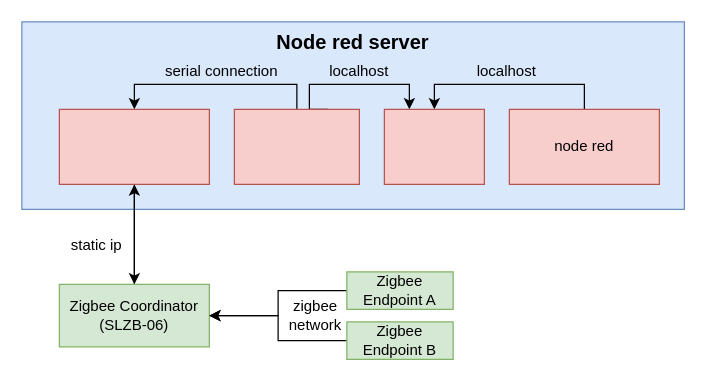
Some shapes in this 706 by 381 pixel diagram are drawn without their labels. The shapes that lost their labels are listed below. From the top down, each one's centre as x and y in pixels, then its label:
At [133,146]: "WireguardVPN".
At [296,146]: "zigbee2mqtt".
At [433,146]: "mqtt mosquitto".
